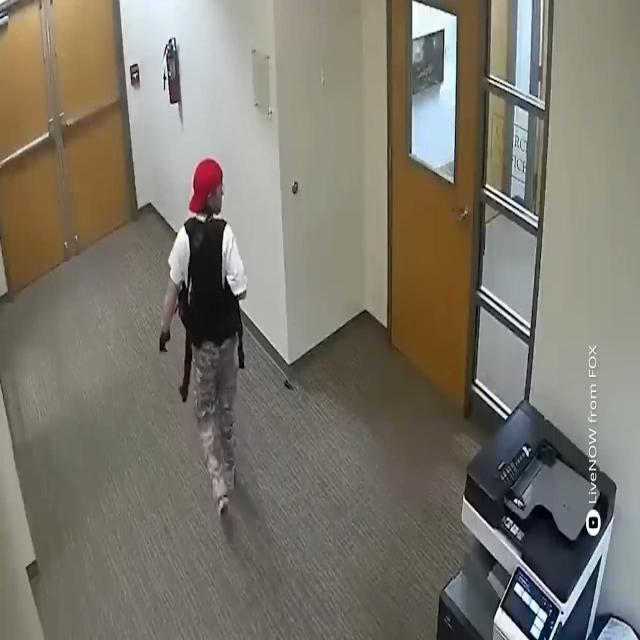pistol: (172, 315, 196, 412)
